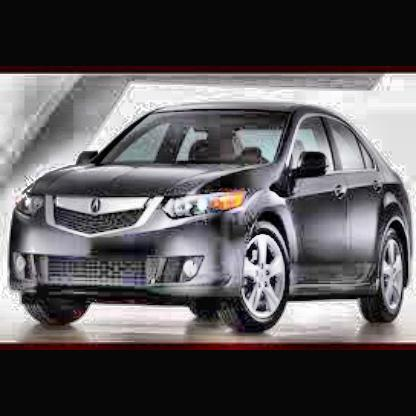Acura TSX Sedan 2012: (9, 104, 415, 336)
